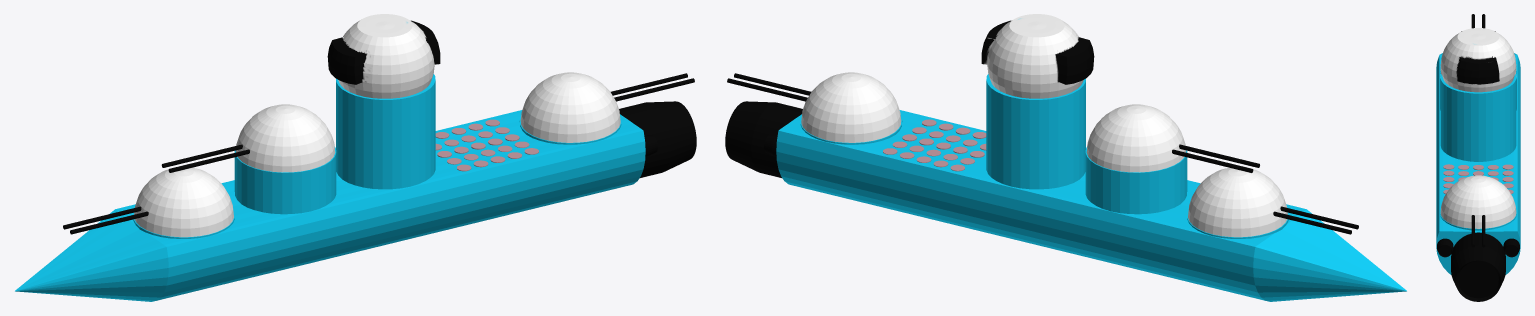
File: BlueforDestroyer (1).fbx
3 renders of one model, left to right at view 1: azimuth 30°, elevation 25°; view 2: azimuth 150°, elevation 25°; view 3: azimuth 270°, elevation 25°, orthographic. The views are drawn at different scales.
Parts seen in each view (by area): view 1: Sphere; view 2: Sphere; view 3: Sphere.
Part boxes in pixels (x1,y1,x2,y2): Sphere: (15,14,696,301); Sphere: (725,14,1406,301); Sphere: (1436,14,1520,301).
Bounding box in the file's own units: 3995 × 1204 × 571.
Materials: 1 (1 with a texture image).
